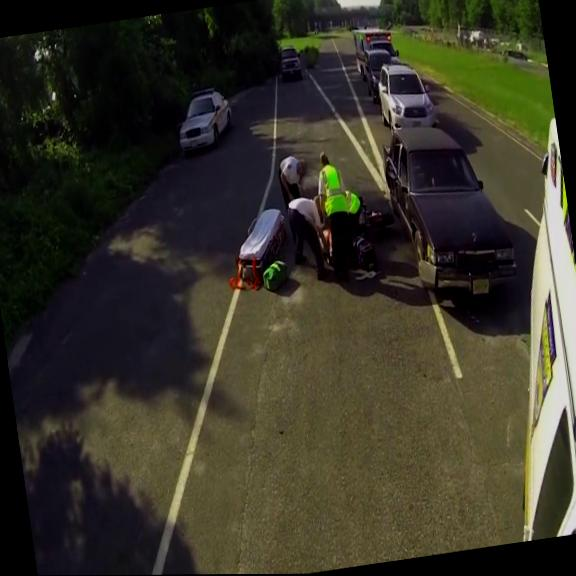safety_vest: (317, 163, 351, 216), (345, 188, 364, 217)
